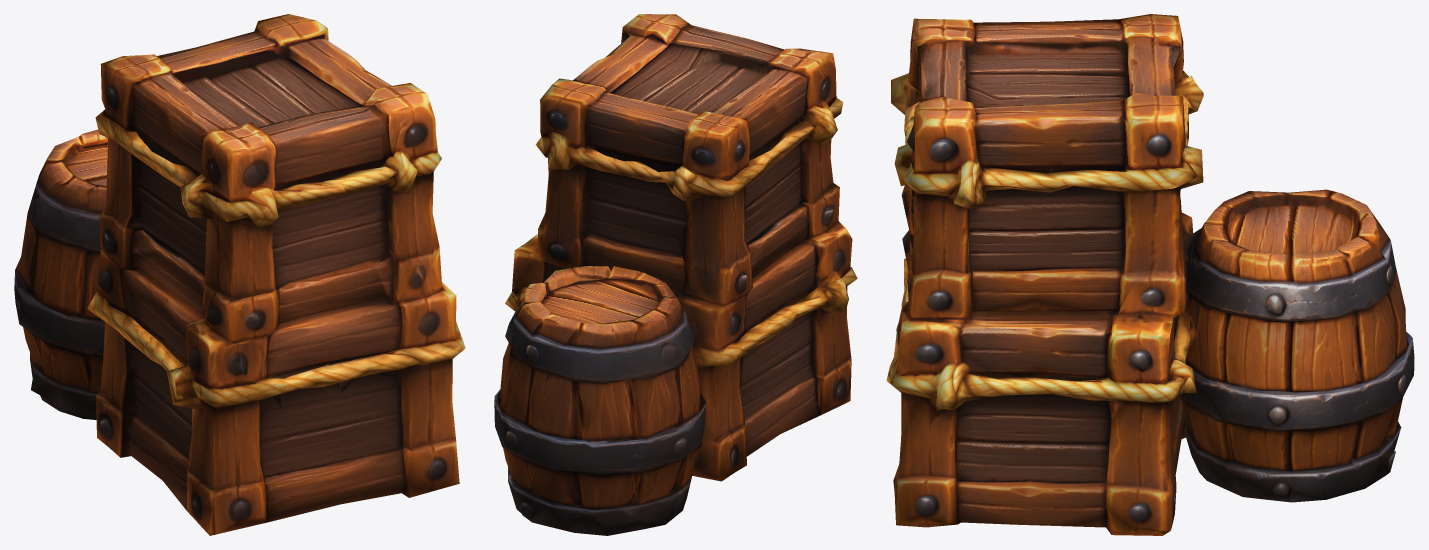
File: Kit_W_Crates_raw.glb
3 renders of one model, left to right at view 1: azimuth 30°, elevation 25°; view 2: azimuth 150°, elevation 25°; view 3: azimuth 270°, elevation 25°, orthographic. The views are drawn at different scales.
Visible parts, largest first — view 1: tripo_node_4d692b5c-6577-4076-b9ad-203d3d0a508b; view 2: tripo_node_4d692b5c-6577-4076-b9ad-203d3d0a508b; view 3: tripo_node_4d692b5c-6577-4076-b9ad-203d3d0a508b.
Part boxes in pixels (bbox=[...]): tripo_node_4d692b5c-6577-4076-b9ad-203d3d0a508b: bbox=[14, 14, 465, 535]; tripo_node_4d692b5c-6577-4076-b9ad-203d3d0a508b: bbox=[494, 14, 857, 535]; tripo_node_4d692b5c-6577-4076-b9ad-203d3d0a508b: bbox=[886, 14, 1414, 535].
Size of the model in its own units: 0.6442 by 0.8481 by 1.
1 material, 1 textured.
